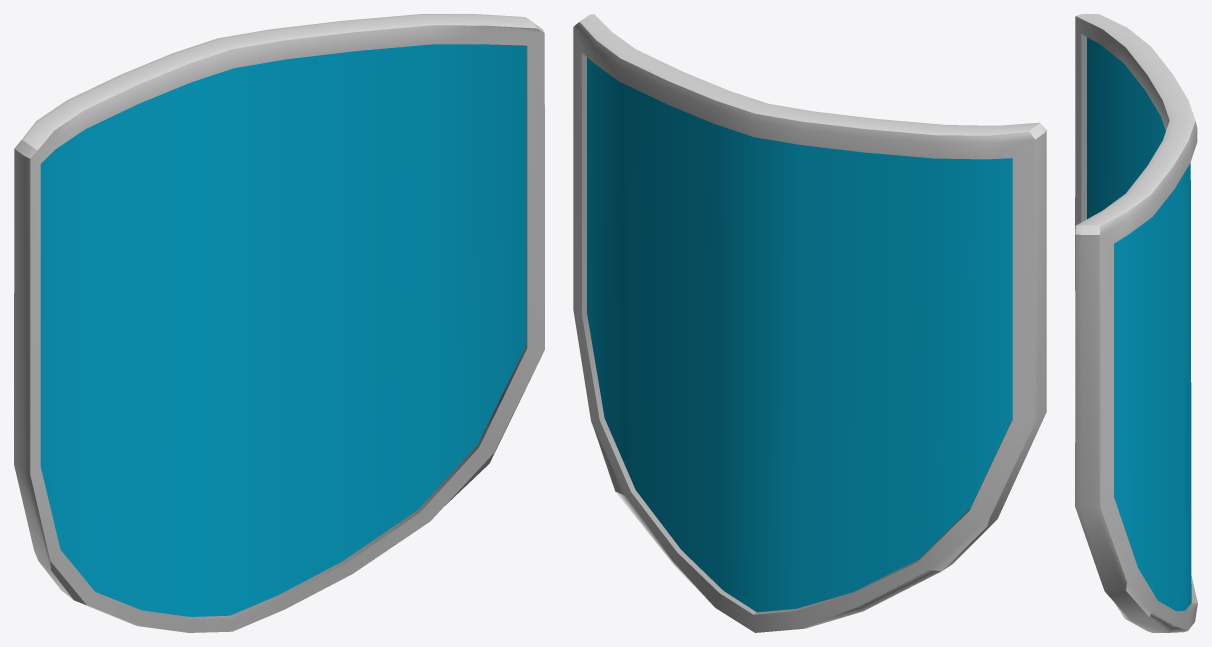
The model's file is SM_Shield.fbx.
3 renders of one model, left to right at view 1: azimuth 30°, elevation 25°; view 2: azimuth 150°, elevation 25°; view 3: azimuth 270°, elevation 25°, orthographic. The views are drawn at different scales.
Visible parts, largest first — view 1: pCylinder1; view 2: pCylinder1; view 3: pCylinder1.
Boxes of the visible parts, x1=… form: pCylinder1: x1=14, y1=14, x2=544, y2=632; pCylinder1: x1=573, y1=14, x2=1046, y2=632; pCylinder1: x1=1075, y1=14, x2=1197, y2=632.
Size of the model in its own units: 1.59 by 1.72 by 0.3799.
